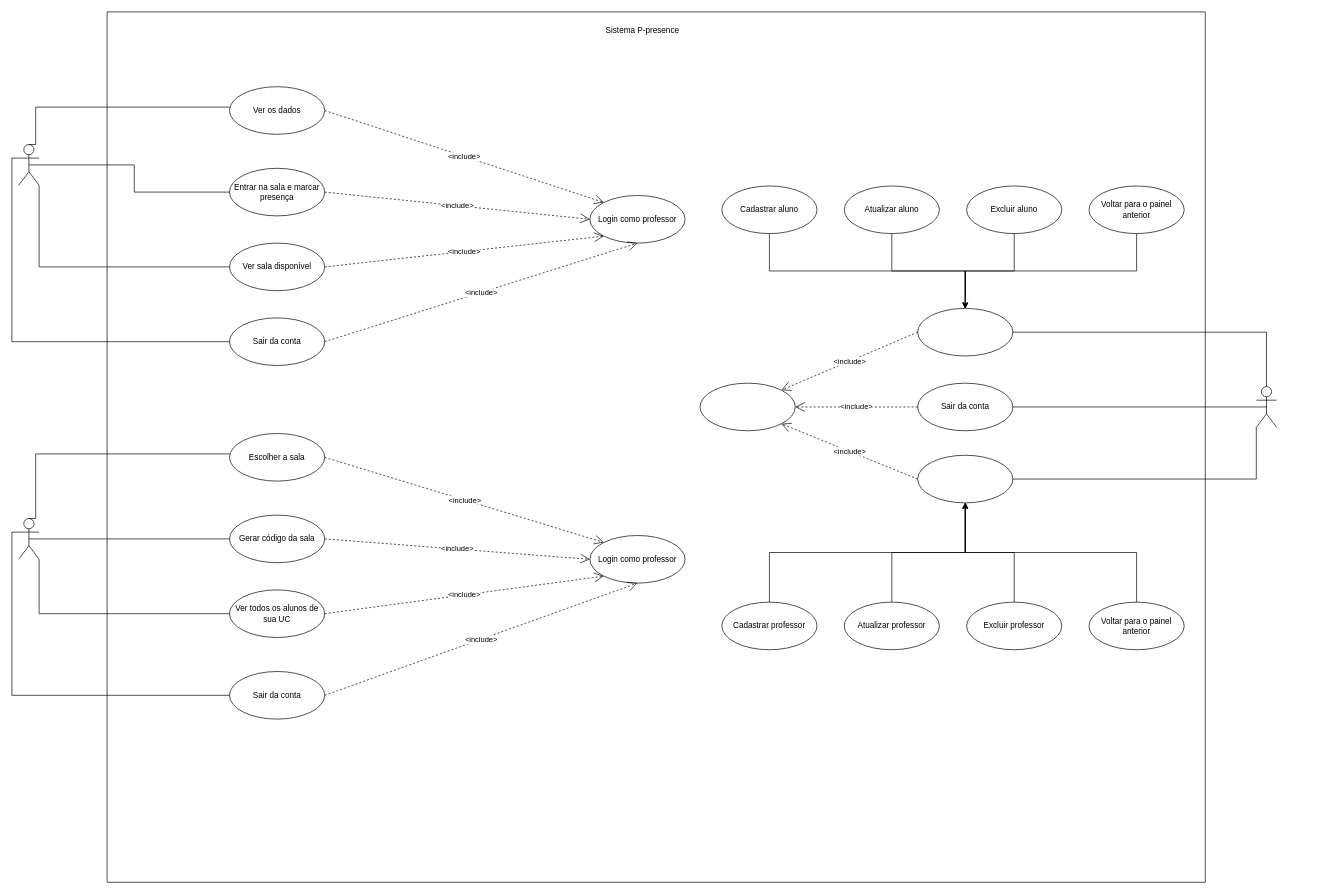
This 1343x894 diagram has some shape labels left out. The centre of each missing label's shape, as x and y in pixels:
Administrador: the point at 1266,406
Aluno: the point at 28,164
Gerenciar alunos: the point at 965,332
Gerenciar professores: the point at 965,479
Login como administrador: the point at 747,406
Professor: the point at 28,538
